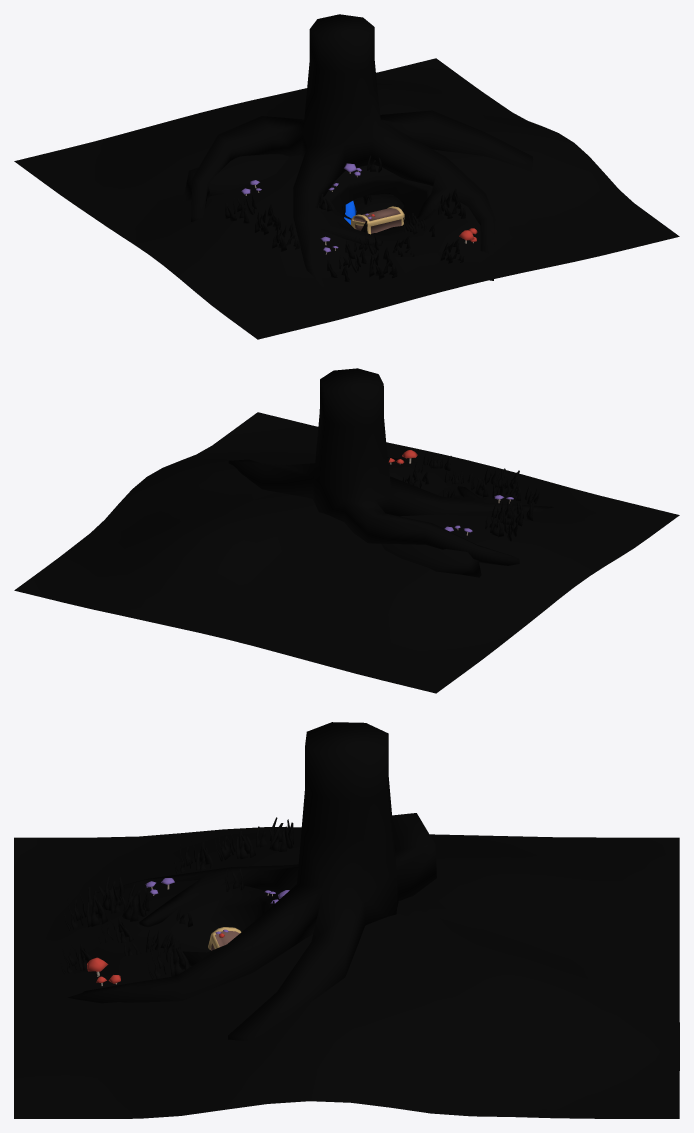
The model's file is treasure_glow.gltf.
3 renders of one model, top to bottom at view 1: azimuth 30°, elevation 25°; view 2: azimuth 150°, elevation 25°; view 3: azimuth 270°, elevation 25°, orthographic. The views are drawn at different scales.
Visible parts, largest first — view 1: Floor, Tree, Rock_003, chest; view 2: Floor, Tree, Rock_003; view 3: Floor, Tree.
Boxes of the visible parts, x1,y1,x2,y2 form: Floor: (14,58,679,339); Tree: (191,14,532,287); Rock_003: (183,154,288,201); chest: (351,206,404,234); Floor: (14,412,679,693); Tree: (228,368,553,565); Rock_003: (381,543,481,577); Floor: (14,827,679,1118); Tree: (68,722,436,1041).
Bounding box in the file's own units: 15.15 × 6.85 × 15.01.
